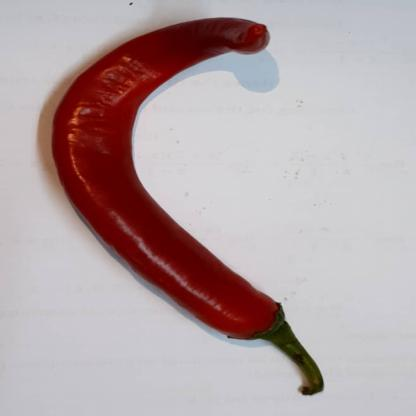chili: (44, 16, 330, 399)
